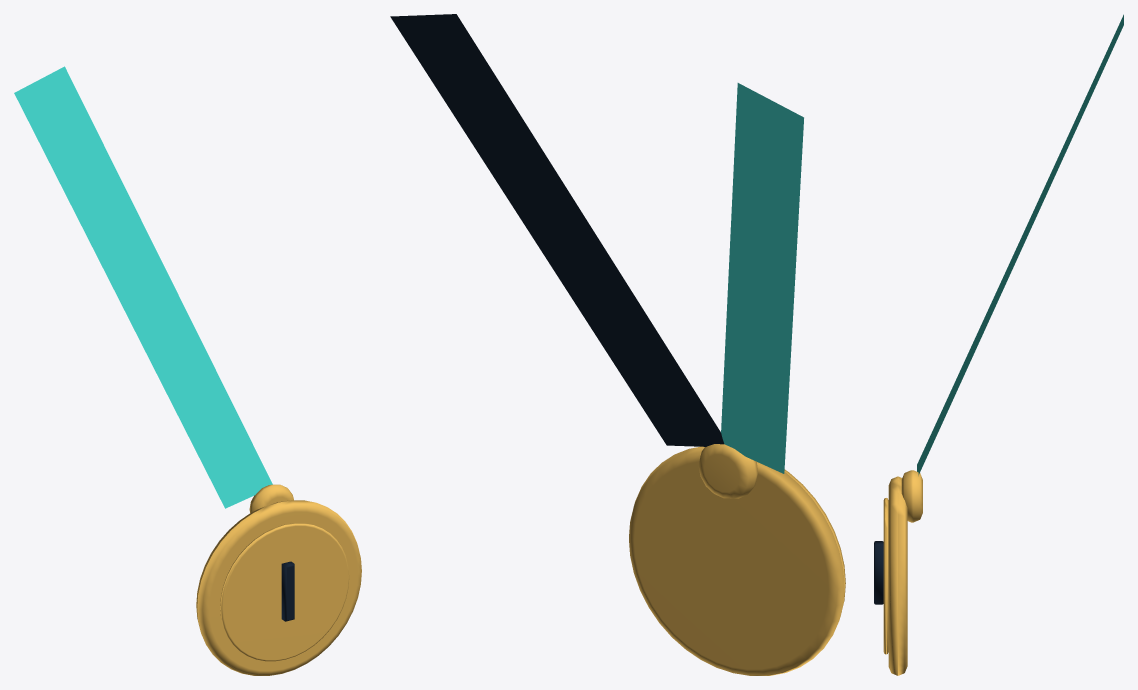
Rendered from gold-medal.glb.
3 views of the same model, side by side, from view 1: azimuth 30°, elevation 25°; view 2: azimuth 150°, elevation 25°; view 3: azimuth 270°, elevation 25° (orthographic). The views are drawn at different scales.
Visible parts, largest first — view 1: gold-medal / consolidated CC0 mesh; view 2: gold-medal / consolidated CC0 mesh; view 3: gold-medal / consolidated CC0 mesh.
Boxes of the visible parts, x1,y1,x2,y2 form: gold-medal / consolidated CC0 mesh: [14, 66, 361, 675]; gold-medal / consolidated CC0 mesh: [390, 14, 845, 675]; gold-medal / consolidated CC0 mesh: [874, 14, 1123, 675].
Size of the model in its own units: 0.162 by 0.272 by 0.1051.
